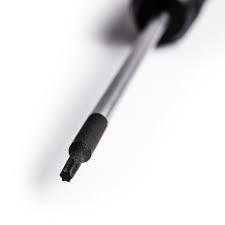screwdriver: (58, 0, 205, 181)
